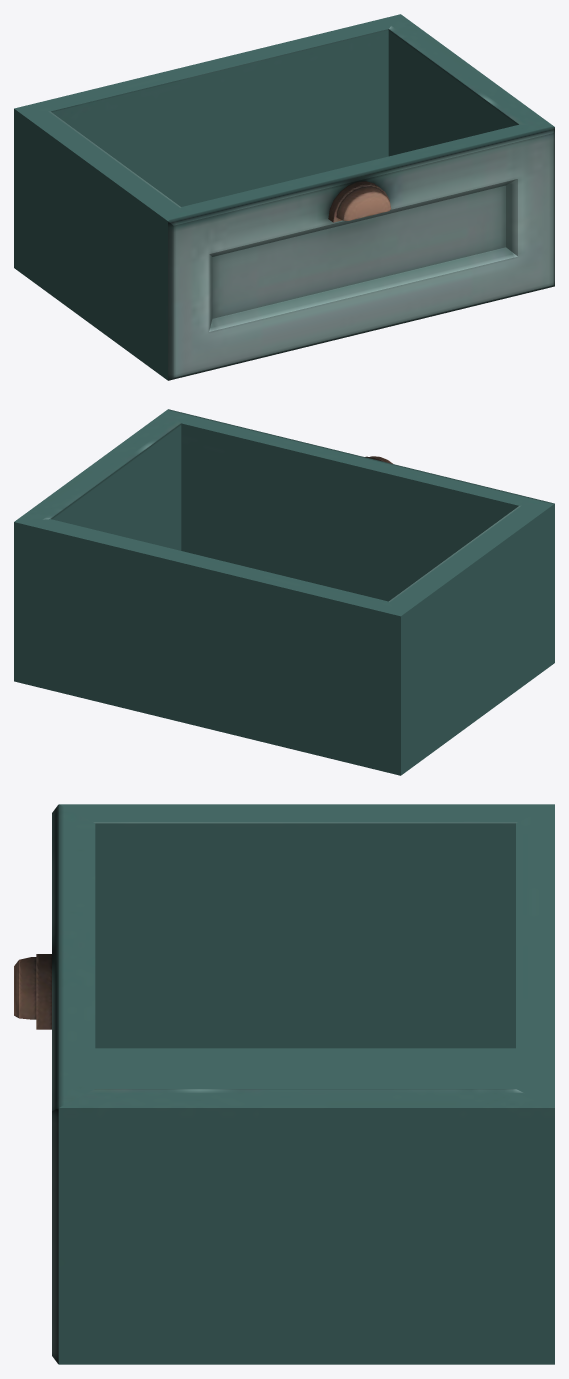
File: topDraw.glb
3 views of the same model, one above another, from view 1: azimuth 30°, elevation 25°; view 2: azimuth 150°, elevation 25°; view 3: azimuth 270°, elevation 25° (orthographic). The views are drawn at different scales.
Parts seen in each view (by area): view 1: Draw00; view 2: Draw00; view 3: Draw00.
Boxes of the visible parts, bbox=[...] form: Draw00: bbox=[14, 14, 554, 380]; Draw00: bbox=[14, 409, 554, 775]; Draw00: bbox=[14, 804, 554, 1364].
Size of what is drawn, in the model's own units: 0.5494 by 0.2164 by 0.4133.
Materials: 1 (1 with a texture image).
